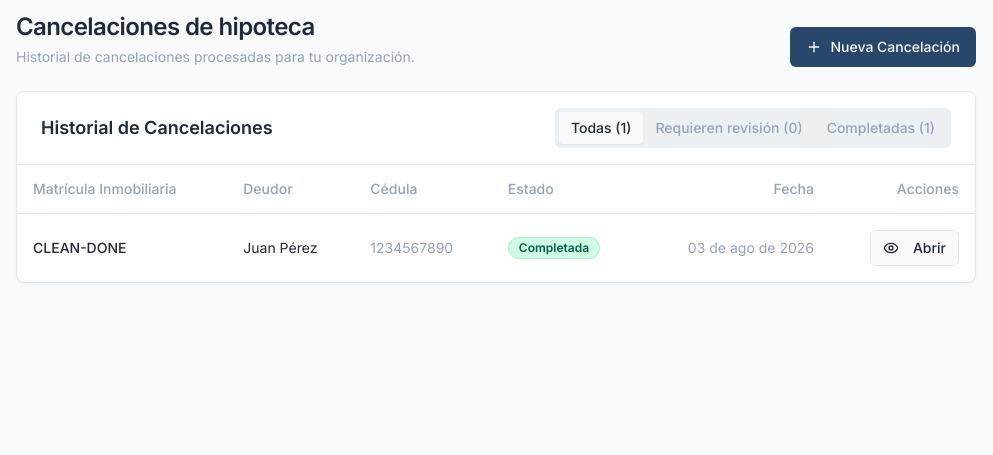
Test case: Cancelaciones — visibilidad de revision_manual_requerida › cuenta con filas pero filtro vacío muestra mensaje de filtro, no mensaje de cuenta vacía
The image size is (993, 455).
Expected: the text "CLEAN-DONE" is shown, [17,213,227,282]
Click the tab "Requieren revisión (0)" at (729, 128), box [643,112,815,144]
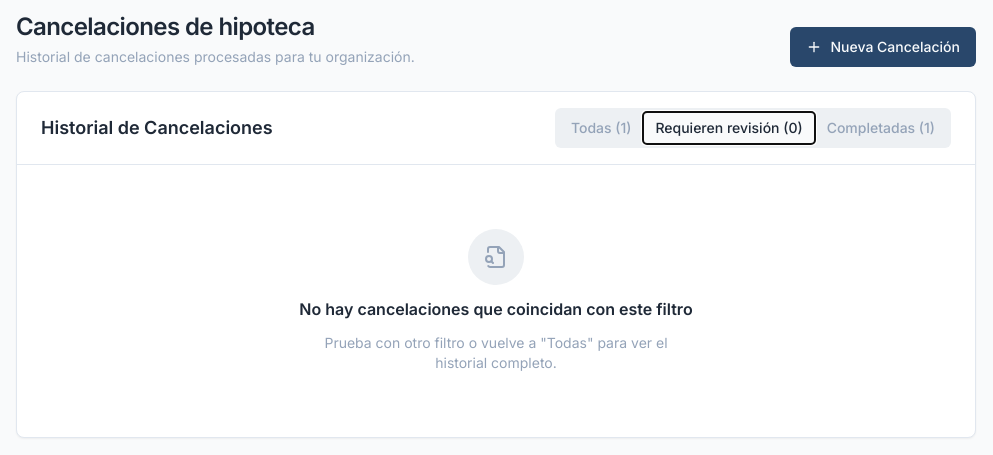
Now the text "CLEAN-DONE" is gone
Now the heading "No hay cancelaciones que coincidan con este filtro" is shown, box [299,297,693,321]
